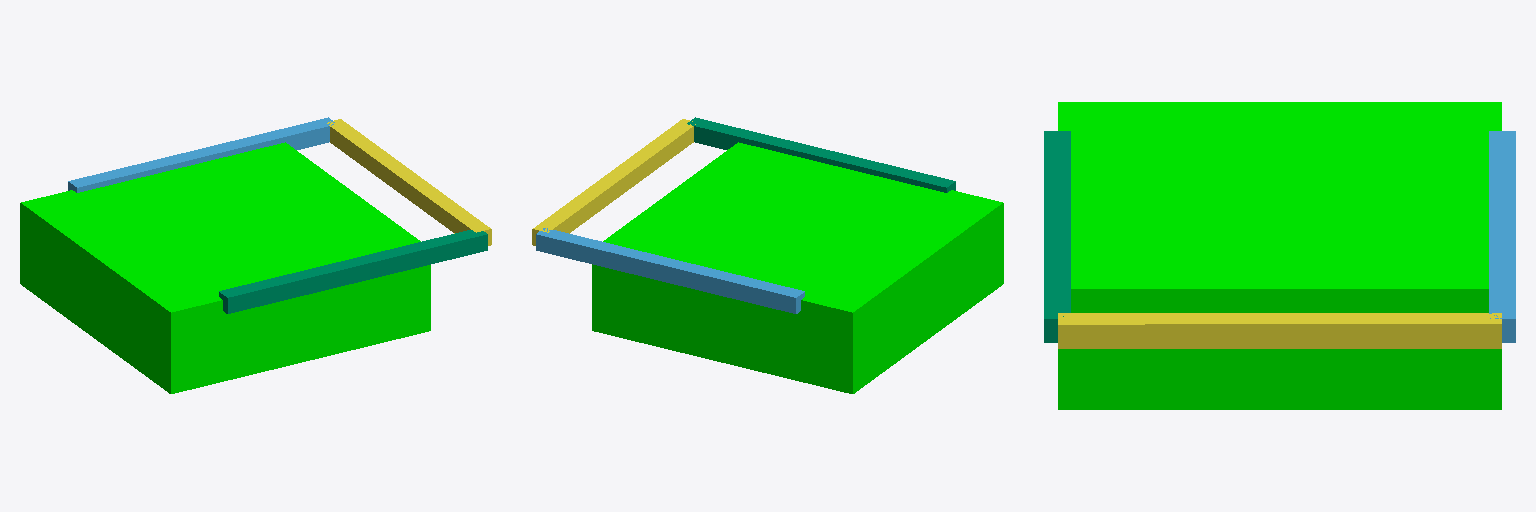
URDF robot description (dustbin):
<?xml version="1.0"?>
<robot name="dustbin">
  <!-- Main body (box representing the dustbin) -->
  <link name="base_link">
    <visual>
      <origin rpy="0 0 0" xyz="0 0 0"/>
      <geometry>
        <box size="0.5 0.5 0.15"/>
      </geometry>
      <material name="green">
        <color rgba="0 1 0 1"/>
      </material>
    </visual>
    <collision>
      <origin rpy="0 0 0" xyz="0 0 0"/>
      <geometry>
        <box size="0.5 0.5 0.15"/>
      </geometry>
    </collision>
    <inertial>
      <mass value="1.0"/>
      <origin rpy="0 0 0" xyz="0 0 0"/>
      <inertia ixx="0.1" ixy="0" ixz="0" iyy="0.1" iyz="0" izz="0.1"/>
    </inertial>
  </link>

  <!-- Horizontal handle -->
  <link name="handle_link_l">
    <visual>
      <geometry>
        <!-- <cylinder length="0.5" radius="0.02"/> -->
                <box size="0.03 0.03 0.5"/>
      </geometry>
      <material name="silver"/>
    </visual>
    <collision>
      <geometry>
        <!-- <cylinder length="0.5" radius="0.02"/> -->
                <box size="0.03 0.03 0.5"/>

      </geometry>
    </collision>
    <inertial>
      <mass value="0.01"/>
      <origin rpy="0 1.57 0" xyz="0.25 0 0.15"/>
      <inertia ixx="0.0001" ixy="0" ixz="0" iyy="0.0001" iyz="0" izz="0.0001"/>
    </inertial>
  </link>

  <link name="handle_link_r">
    <visual>
      <geometry>
        <!-- <cylinder length="0.5" radius="0.02"/> -->
                <box size="0.03 0.03 0.5"/>
      </geometry>
      <material name="silver"/>
    </visual>
    <collision>
      <geometry>
        <!-- <cylinder length="0.5" radius="0.02"/> -->
                <box size="0.03 0.03 0.5"/>

      </geometry>
    </collision>
    <inertial>
      <mass value="0.01"/>
      <origin rpy="0 1.57 0" xyz="0.25 0 0.15"/>
      <inertia ixx="0.0001" ixy="0" ixz="0" iyy="0.0001" iyz="0" izz="0.0001"/>
    </inertial>

  </link>

   <link name="central_link">
    <visual>
      <geometry>
        <!-- <cylinder length="0.5" radius="0.02"/> -->
                <box size="0.03 0.03 0.5"/>
      </geometry>
      <material name="silver"/>
    </visual>
    <collision>
      <geometry>
        <!-- <cylinder length="0.5" radius="0.02"/> -->
                <box size="0.03 0.03 0.5"/>

      </geometry>
    </collision>
    <inertial>
      <mass value="0.01"/>
      <origin rpy="1.57 0 0" xyz="0 0 0"/>
      <inertia ixx="0.0001" ixy="0" ixz="0" iyy="0.0001" iyz="0" izz="0.0001"/>
    </inertial>
  </link>

  <link name="link">
    <pose>0 0 0 0 0 0</pose>
    <inertial>
      <pose>0 0 -0.064e-02 0 0 0</pose>
      <mass>7.975e-6</mass>
      <inertia>
        <ixx>31.065e-10</ixx>
        <ixy>0.000027e-10</ixy>
        <ixz>-0.002403e-10</ixz>
        <iyy>31.066e-10</iyy>
        <iyz>-0.000221e-10</iyz>
        <izz>19.7979e-10</izz>
      </inertia>
    </inertial>
    
    <visual name="visual">
      <geometry>
        <mesh>
          <uri>model://X1-Y1-Z2/meshes/X1-Y1-Z2.stl</uri>
        </mesh>
      </geometry>
      <material>
        <script>
          <uri>file:/[local-path]/scripts/gazebo.material</uri>
          <name>Gazebo/Red</name>
        </script>
      </material>
    </visual>
    
    <collision name="collision">
      <geometry>
        <mesh>
          <uri>model://X1-Y1-Z2/meshes/X1-Y1-Z2.stl</uri>
        </mesh>
      </geometry>
    </collision>
  </link>

    <link name="x1y2z1_link">
    <pose>0 0 0 0 0 0</pose>
    <inertial>
      <pose>0.000061e-02 0.000456e-02 0.000295e-02 0 0 0</pose>
      <mass>9.916039e-6</mass>
      <inertia>
        <ixx>50.790573e-10</ixx>
        <ixy>0.005056e-10</ixy>
        <ixz>-0.000368e-10</ixz>
        <iyy>23.509121e-10</iyy>
        <iyz>-0.005099e-10</iyz>
        <izz>50.08608e-10</izz>
      </inertia>
    </inertial>
    
    <visual name="visual">
      <geometry>
        <mesh>
          <uri>model://X1-Y2-Z1/meshes/X1-Y2-Z1.stl</uri>
        </mesh>
      </geometry>
      <material>
        <script>
          <uri>file:/[local-path]/scripts/gazebo.material</uri>
          <name>Gazebo/Red</name>
        </script>
      </material>
    </visual>
    
    <collision name="collision">
      <geometry>
        <mesh>
          <uri>model://X1-Y2-Z1/meshes/X1-Y2-Z1.stl</uri>
        </mesh>
      </geometry>
    </collision>
  </link>

  <link name="x1y2z2_link">
    <pose>0 0 0 0 0 0</pose>
    <inertial>
      <pose>0 0 0.029775e-02 0 0 0</pose>
      <mass>14.626943e-6</mass>
      <inertia>
        <ixx>100.1e-10</ixx>
        <ixy>0.00044e-10</ixy>
        <ixz>-0.0027e-10</ixz>
        <iyy>58.5e-10</iyy>
        <iyz>-0.00236e-10</iyz>
        <izz>79.66e-10</izz>
      </inertia>
    </inertial>
    
    <visual name="visual">
      <geometry>
        <mesh>
          <uri>model://X1-Y2-Z2/meshes/X1-Y2-Z2.stl</uri>
        </mesh>
      </geometry>
      <material>
        <script>
          <uri>file:/[local-path]/scripts/gazebo.material</uri>
          <name>Gazebo/Red</name>
        </script>
      </material>
    </visual>
    
    <collision name="collision">
      <geometry>
        <mesh>
          <uri>model://X1-Y2-Z2/meshes/X1-Y2-Z2.stl</uri>
        </mesh>
      </geometry>
    </collision>
  </link>
  <link name="x1y2z2c_link">
    <pose>0 0 0 0 0 0</pose>
    <inertial>
      <pose>0e-02 0.4888e-02 -0.392e-02</pose>
      <mass>11.813372e-6</mass>
      <inertia>
        <ixx>71.14e-10</ixx>
        <ixy>-0.000532e-10</ixy>
        <ixz>-0.001824e-10</ixz>
        <iyy>43.6e-10</iyy>
        <iyz>-10.78e-10</iyz>
        <izz>59.25e-10</izz>
      </inertia>
    </inertial>
    
    <visual name="visual">
      <geometry>
        <mesh>
          <uri>model://X1-Y2-Z2-CHAMFER/meshes/X1-Y2-Z2-CHAMFER.stl</uri>
        </mesh>
      </geometry>
      <material>
        <script>
          <uri>file:/[local-path]/scripts/gazebo.material</uri>
          <name>Gazebo/Red</name>
        </script>
      </material>
    </visual>
    
    <collision name="collision">
      <geometry>
        <mesh>
          <uri>model://X1-Y2-Z2-CHAMFER/meshes/X1-Y2-Z2-CHAMFER.stl</uri>
        </mesh>
      </geometry>
    </collision>
  </link>

  <link name="x1y2z2tf_link">
    <pose>0 0 0 0 0 0</pose>
    <inertial>
      <pose>0e-02 0e-02 -0.2823e-02</pose>
      <mass>11.106e-6</mass>
      <inertia>
        <ixx>69.202e-10</ixx>
        <ixy>-0.0041e-10</ixy>
        <ixz>-0.0007e-10</ixz>
        <iyy>42.507e-10</iyy>
        <iyz>-0.0051e-10</iyz>
        <izz>58.594e-10</izz>
      </inertia>
    </inertial>
    
    <visual name="visual">
      <geometry>
        <mesh>
          <uri>model://X1-Y2-Z2-TWINFILLET/meshes/X1-Y2-Z2-TWINFILLET.stl</uri>
        </mesh>
      </geometry>
      <material>
        <script>
          <uri>file:/[local-path]/scripts/gazebo.material</uri>
          <name>Gazebo/Red</name>
        </script>
      </material>
    </visual>
    
    <collision name="collision">
      <geometry>
        <mesh>
          <uri>model://X1-Y2-Z2-TWINFILLET/meshes/X1-Y2-Z2-TWINFILLET.stl</uri>
        </mesh>
      </geometry>
    </collision>
  </link>
  <link name="x1y3z2_link">
    <pose>0 0 0 0 0 0</pose>
    <inertial>
      <pose>0e-02 0e-02 0.06326e-02</pose>
      <mass>21.26222e-6</mass>
      <inertia>
        <ixx>243.707e-10</ixx>
        <ixy>-0.00043e-10</ixy>
        <ixz>-0.00027e-10</ixz>
        <iyy>85.755e-10</iyy>
        <iyz>0.00018e-10</iyz>
        <izz>214.272e-10</izz>
      </inertia>
    </inertial>
    
    <visual name="visual">
      <geometry>
        <mesh>
          <uri>model://X1-Y3-Z2/meshes/X1-Y3-Z2.stl</uri>
        </mesh>
      </geometry>
      <material>
        <script>
          <uri>file:/[local-path]/scripts/gazebo.material</uri>
          <name>Gazebo/Red</name>
        </script>
      </material>
    </visual>
    
    <collision name="collision">
      <geometry>
        <mesh>
          <uri>model://X1-Y3-Z2/meshes/X1-Y3-Z2.stl</uri>
        </mesh>
      </geometry>
    </collision>
  </link>
  <link name="x1y3z2f_link">
    <pose>0 0 0 0 0 0</pose>
    <inertial>
      <pose>0e-02 0.6707e-02 -0.4936e-02</pose>
      <mass>16.4195e-6</mass>
      <inertia>
        <ixx>169.806e-10</ixx>
        <ixy>-0.0027e-10</ixy>
        <ixz>-0.0005e-10</ixz>
        <iyy>57.322e-10</iyy>
        <iyz>-22.714e-10</iyz>
        <izz>158.658e-10</izz>
      </inertia>
    </inertial>
    
    <visual name="visual">
      <geometry>
        <mesh>
          <uri>model://X1-Y3-Z2-FILLET/meshes/X1-Y3-Z2-FILLET.stl</uri>
        </mesh>
      </geometry>
      <material>
        <script>
          <uri>file:/[local-path]/scripts/gazebo.material</uri>
          <name>Gazebo/Red</name>
        </script>
      </material>
    </visual>
    
    <collision name="collision">
      <geometry>
        <mesh>
          <uri>model://X1-Y3-Z2-FILLET/meshes/X1-Y3-Z2-FILLET.stl</uri>
        </mesh>
      </geometry>
    </collision>
  </link>
  <link name="x1y4z1_link">
    <pose>0 0 0 0 0 0</pose>
    <inertial>
      <pose>0e-02 -0.013e-02 0.028e-02</pose>
      <mass>19.29e-6</mass>
      <inertia>
        <ixx>304.1e-10</ixx>
        <ixy>0.0001e-10</ixy>
        <ixz>0.0004e-10</ixz>
        <iyy>45.92e-10</iyy>
        <iyz>-0.267e-10</iyz>
        <izz>303.17e-10</izz>
      </inertia>
    </inertial>
    
    <visual name="visual">
      <geometry>
        <mesh>
          <uri>model://X1-Y4-Z1/meshes/X1-Y4-Z1.stl</uri>
        </mesh>
      </geometry>
      <material>
        <script>
          <uri>file:/[local-path]/scripts/gazebo.material</uri>
          <name>Gazebo/Red</name>
        </script>
      </material>
    </visual>
    
    <collision name="collision">
      <geometry>
        <mesh>
          <uri>model://X1-Y4-Z1/meshes/X1-Y4-Z1.stl</uri>
        </mesh>
      </geometry>
    </collision>
  </link>
  <link name="x1y4z2_link">
    <pose>0 0 0 0 0 0</pose>
    <inertial>
      <pose>0e-02 -0.02e-02 0.073e-02</pose>
      <mass>28.118e-6</mass>
      <inertia>
        <ixx>498.05e-10</ixx>
        <ixy>0e-10</ixy>
        <ixz>0.00033e-10</ixz>
        <iyy>113.68e-10</iyy>
        <iyz>-0.584e-10</iyz>
        <izz>459.22e-10</izz>
      </inertia>
    </inertial>
    
    <visual name="visual">
      <geometry>
        <mesh>
          <uri>model://X1-Y4-Z2/meshes/X1-Y4-Z2.stl</uri>
        </mesh>
      </geometry>
      <material>
        <script>
          <uri>file:/[local-path]/scripts/gazebo.material</uri>
          <name>Gazebo/Red</name>
        </script>
      </material>
    </visual>
    
    <collision name="collision">
      <geometry>
        <mesh>
          <uri>model://X1-Y4-Z2/meshes/X1-Y4-Z2.stl</uri>
        </mesh>
      </geometry>
    </collision>
  </link>
  <link name="x2y2z2_link">
    <pose>0 0 0 0 0 0</pose>
    <inertial>
      <pose>0.0063e-02 0e-02 -0.149e-02</pose>
      <mass>26.42e-6</mass>
      <inertia>
        <ixx>185e-10</ixx>
        <ixy>0.002e-10</ixy>
        <ixz>-0.37e-10</ixz>
        <iyy>185e-10</iyy>
        <iyz>0.003e-10</iyz>
        <izz>225.8e-10</izz>
      </inertia>
    </inertial>
    
    <visual name="visual">
      <geometry>
        <mesh>
          <uri>model://X2-Y2-Z2/meshes/X2-Y2-Z2.stl</uri>
        </mesh>
      </geometry>
      <material>
        <script>
          <uri>file:/[local-path]/scripts/gazebo.material</uri>
          <name>Gazebo/Red</name>
        </script>
      </material>
    </visual>
    
    <collision name="collision">
      <geometry>
        <mesh>
          <uri>model://X2-Y2-Z2/meshes/X2-Y2-Z2.stl</uri>
        </mesh>
      </geometry>
    </collision>
  </link>
  <link name="x2y2z2f_link">
    <pose>0 0 0 0 0 0</pose>
    <inertial>
      <pose>0.00379e-02 0.35e-02 -0.21e-02</pose>
      <mass>22.336e-6</mass>
      <inertia>
        <ixx>143.8544e-10</ixx>
        <ixy>-0.10468e-10</ixy>
        <ixz>-0.21942e-10</ixz>
        <iyy>151.35e-10</iyy>
        <iyz>-16.18699e-10</iyz>
        <izz>189.6e-10</izz>
      </inertia>
    </inertial>
    
    <visual name="visual">
      <geometry>
        <mesh>
          <uri>model://X2-Y2-Z2-FILLET/meshes/X2-Y2-Z2-FILLET.stl</uri>
        </mesh>
      </geometry>
      <material>
        <script>
          <uri>file:/[local-path]/scripts/gazebo.material</uri>
          <name>Gazebo/Red</name>
        </script>
      </material>
    </visual>
    
    <collision name="collision">
      <geometry>
        <mesh>
          <uri>model://X2-Y2-Z2-FILLET/meshes/X2-Y2-Z2-FILLET.stl</uri>
        </mesh>
      </geometry>
    </collision>
  </link>
  
  <!-- Joint connecting handle to the dustbin -->
  <joint name="handle_joint_l" type="fixed">
    <parent link="base_link"/>
    <child link="handle_link_l"/>
    <origin rpy="0 1.57 0" xyz="0.1 0.25 0.07"/>
  </joint>

  <joint name="handle_joint_r" type="fixed">
    <parent link="base_link"/>
    <child link="handle_link_r"/>
    <origin rpy="0 1.57 0" xyz="0.1 -0.25 0.07"/>
  </joint>

  <joint name="central_joint_l" type="fixed">
    <parent link="handle_link_l"/>
    <child link="central_link"/>
    <origin rpy="1.57 0 0" xyz="0 -0.25 0.25"/>
  </joint>
  
  <joint name="lego_joint1" type="fixed">
    <parent link="base_link"/>
    <child link="link"/>
    <!-- Adjust joint properties like origin, axis, etc. as needed -->
    <origin rpy="0 0 0" xyz="0.1 0 0"/>
  </joint>
  <joint name="lego_joint2" type="fixed">
    <parent link="base_link"/>
    <child link="x1y2z1_link"/>
    <!-- Adjust joint properties like origin, axis, etc. as needed -->
    <origin rpy="0 0 0" xyz="0.1 0 0"/>
  </joint>
  <joint name="lego_joint3" type="fixed">
    <parent link="base_link"/>
    <child link="x1y2z2_link"/>
    <!-- Adjust joint properties like origin, axis, etc. as needed -->
    <origin rpy="0 0 0" xyz="0.1 0 0"/>
  </joint>
  <joint name="lego_joint4" type="fixed">
    <parent link="base_link"/>
    <child link="x1y2z2c_link"/>
    <!-- Adjust joint properties like origin, axis, etc. as needed -->
    <origin rpy="0 0 0" xyz="0.1 0 0"/>
  </joint>
  <joint name="lego_joint5" type="fixed">
    <parent link="base_link"/>
    <child link="x1y2z2tf_link"/>
    <!-- Adjust joint properties like origin, axis, etc. as needed -->
    <origin rpy="0 0 0" xyz="0.1 0 0"/>
  </joint>
  <joint name="lego_joint6" type="fixed">
    <parent link="base_link"/>
    <child link="x1y3z2_link"/>
    <!-- Adjust joint properties like origin, axis, etc. as needed -->
    <origin rpy="0 0 0" xyz="0.1 0 0"/>
  </joint>
  <joint name="lego_joint7" type="fixed">
    <parent link="base_link"/>
    <child link="x1y3z2f_link"/>
    <!-- Adjust joint properties like origin, axis, etc. as needed -->
    <origin rpy="0 0 0" xyz="0.1 0 0"/>
  </joint>
  <joint name="lego_joint8" type="fixed">
    <parent link="base_link"/>
    <child link="x1y4z1_link"/>
    <!-- Adjust joint properties like origin, axis, etc. as needed -->
    <origin rpy="0 0 0" xyz="0.1 0 0"/>
  </joint>
  <joint name="lego_joint9" type="fixed">
    <parent link="base_link"/>
    <child link="x1y4z2_link"/>
    <!-- Adjust joint properties like origin, axis, etc. as needed -->
    <origin rpy="0 0 0" xyz="0.1 0 0"/>
  </joint>
  <joint name="lego_joint10" type="fixed">
    <parent link="base_link"/>
    <child link="x2y2z2_link"/>
    <!-- Adjust joint properties like origin, axis, etc. as needed -->
    <origin rpy="0 0 0" xyz="0.1 0 0"/>
  </joint>
  <joint name="lego_joint11" type="fixed">
    <parent link="base_link"/>
    <child link="x2y2z2f_link"/>
    <!-- Adjust joint properties like origin, axis, etc. as needed -->
    <origin rpy="0 0 0" xyz="0.1 0 0"/>
  </joint>

</robot>

--- Facts derived from the render (not from the file) ---
3 views of the same robot in one strip: view 1: azimuth 30°, elevation 25°; view 2: azimuth 150°, elevation 25°; view 3: azimuth 270°, elevation 25° (orthographic).
Robot: dustbin — 15 links, 14 joints (14 fixed); root link base_link; default pose: every joint at zero.
Links seen in each view (by area): view 1: base_link, handle_link_r, central_link, handle_link_l; view 2: base_link, handle_link_l, central_link, handle_link_r; view 3: base_link, central_link, handle_link_l, handle_link_r.
Boxes of the visible links, x1=… form: base_link: x1=20, y1=142, x2=430, y2=393; handle_link_r: x1=219, y1=230, x2=487, y2=313; central_link: x1=327, y1=119, x2=491, y2=245; handle_link_l: x1=68, y1=117, x2=334, y2=192; base_link: x1=592, y1=142, x2=1003, y2=393; handle_link_l: x1=536, y1=228, x2=804, y2=313; central_link: x1=532, y1=119, x2=695, y2=245; handle_link_r: x1=687, y1=117, x2=955, y2=192; base_link: x1=1058, y1=102, x2=1501, y2=409; central_link: x1=1058, y1=313, x2=1501, y2=348; handle_link_l: x1=1489, y1=131, x2=1515, y2=342; handle_link_r: x1=1044, y1=131, x2=1070, y2=342.
Bounding box of the posed robot: 0.6152 × 0.53 × 0.1602 m (x, y, z).
Geometry: primitives only (box / cylinder / sphere), no mesh files.